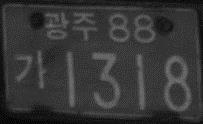1: (63, 49, 80, 108), (133, 52, 147, 111)
3: (89, 50, 121, 109)
8: (163, 54, 194, 113), (133, 13, 156, 44), (107, 13, 129, 43)
가: (14, 49, 48, 89)
광주_O: (44, 10, 98, 42)
